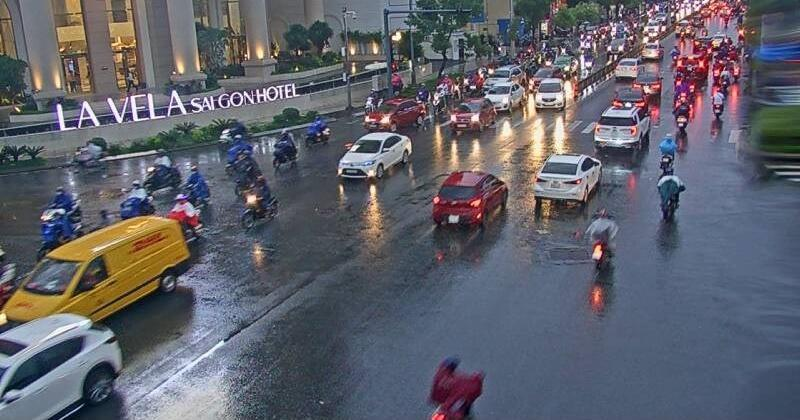xe hoi: (0, 314, 125, 420), (434, 170, 508, 224), (534, 152, 602, 202), (338, 132, 411, 178), (593, 105, 649, 149), (365, 98, 426, 131), (450, 97, 497, 133)
xe van: (0, 214, 188, 318)
